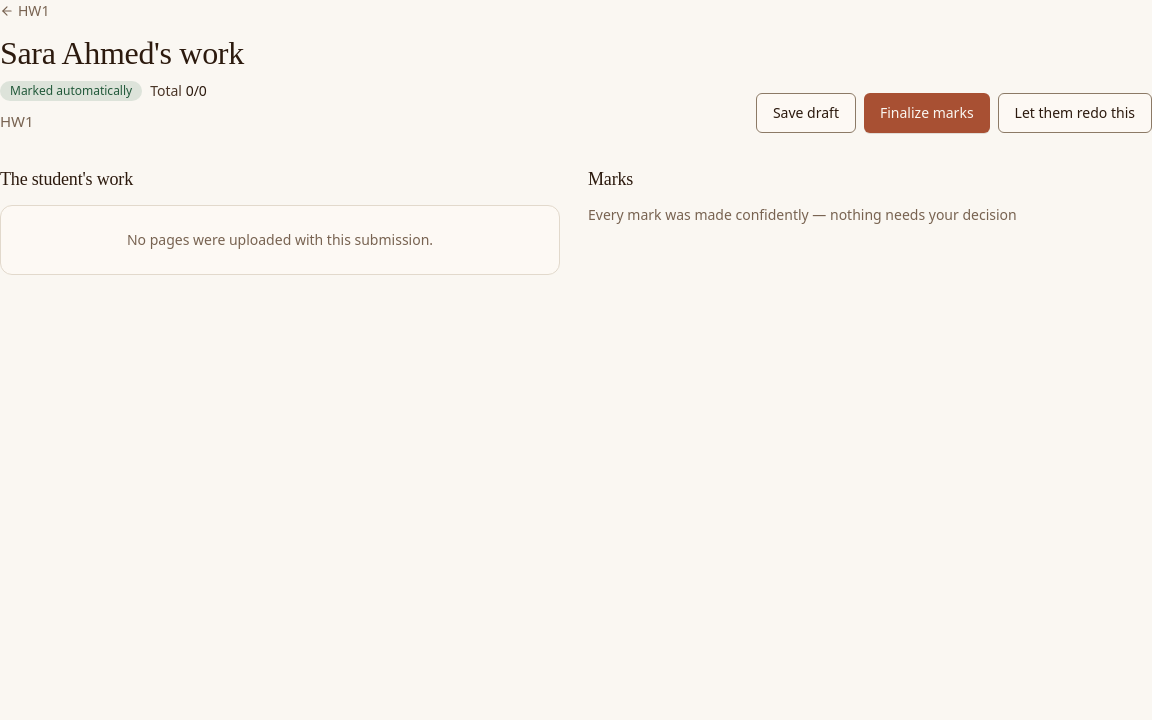
Test: Cancel closes the dialog and asks nothing of the server
Click the button "Let them redo this" at (1075, 113), box left=998, top=93, right=1151, bottom=133
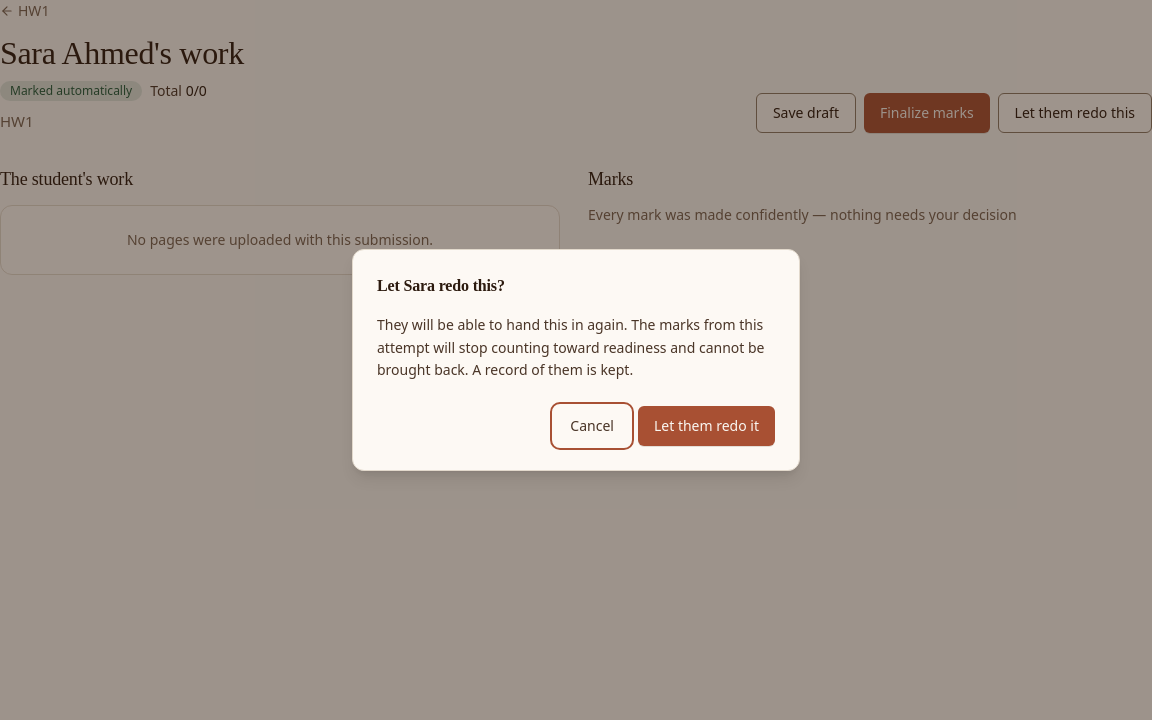
Click the button "Cancel" at (592, 426), box left=554, top=406, right=630, bottom=446
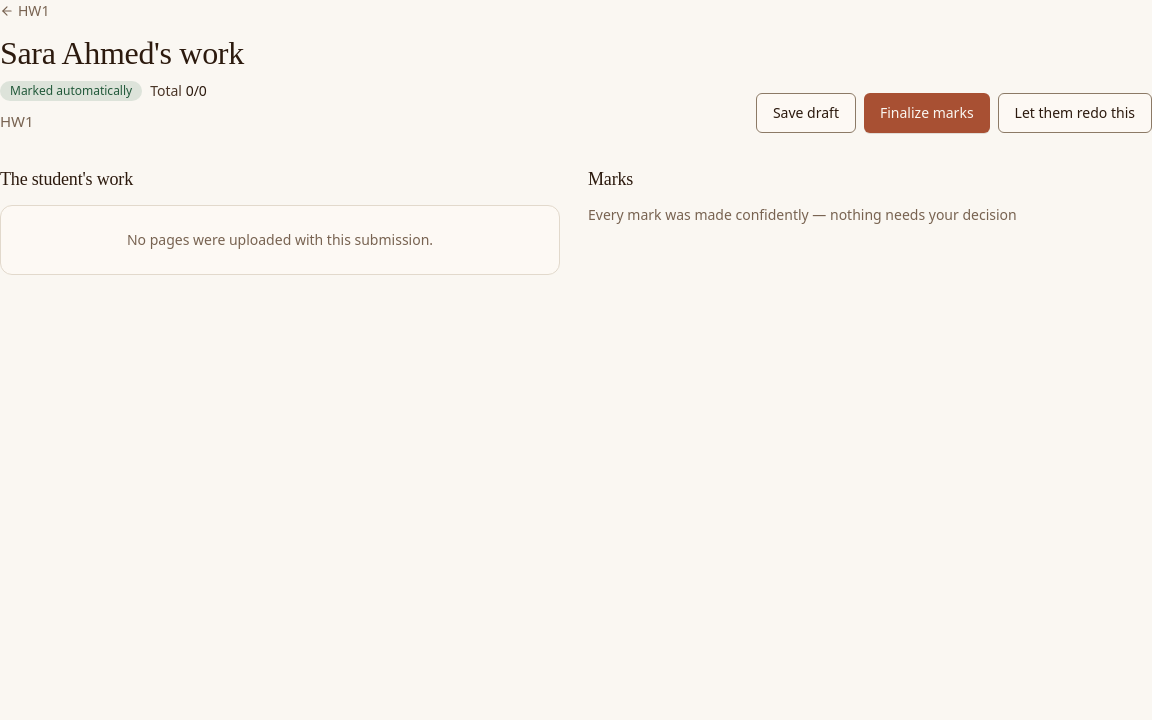
expect the dialog is gone: met
